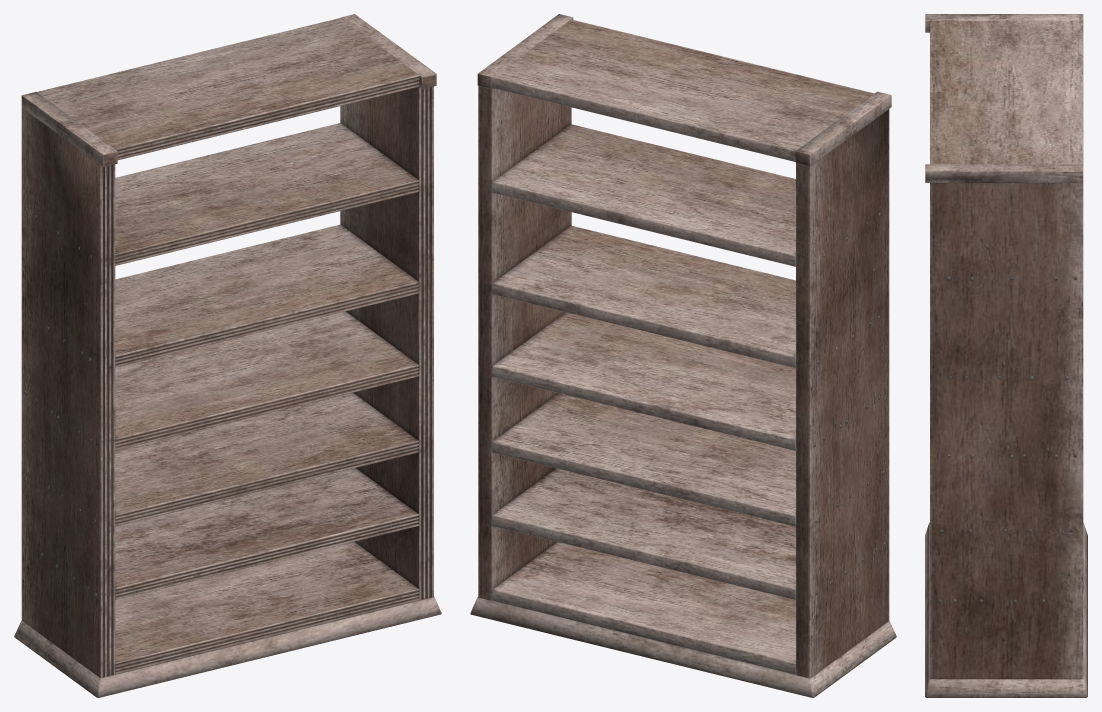
Rendered from bookshelf.glb.
The picture shows the model from 3 angles, left to right: view 1: azimuth 30°, elevation 25°; view 2: azimuth 150°, elevation 25°; view 3: azimuth 270°, elevation 25°; orthographic projection. The views are drawn at different scales.
Visible parts, largest first — view 1: wooden_bookshelf_worn; view 2: wooden_bookshelf_worn; view 3: wooden_bookshelf_worn.
Boxes of the visible parts, x1,y1,x2,y2 form: wooden_bookshelf_worn: (14, 14, 441, 697); wooden_bookshelf_worn: (470, 14, 896, 697); wooden_bookshelf_worn: (925, 14, 1087, 697).
Size of the model in its own units: 1.37 by 2.06 by 0.5814.
Materials: 1 (1 with a texture image).
